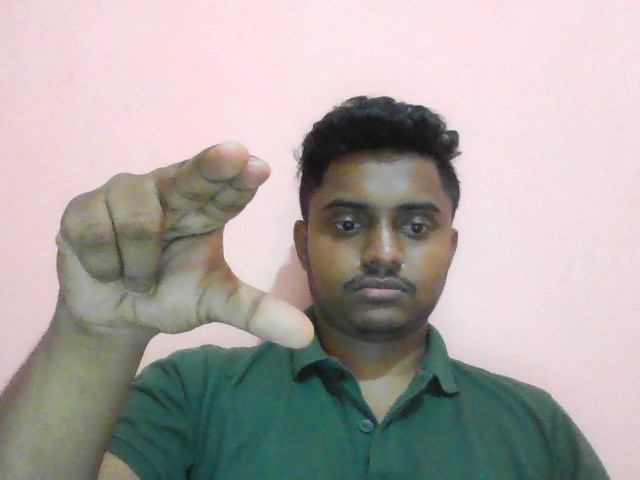No: (40, 128, 323, 360)
